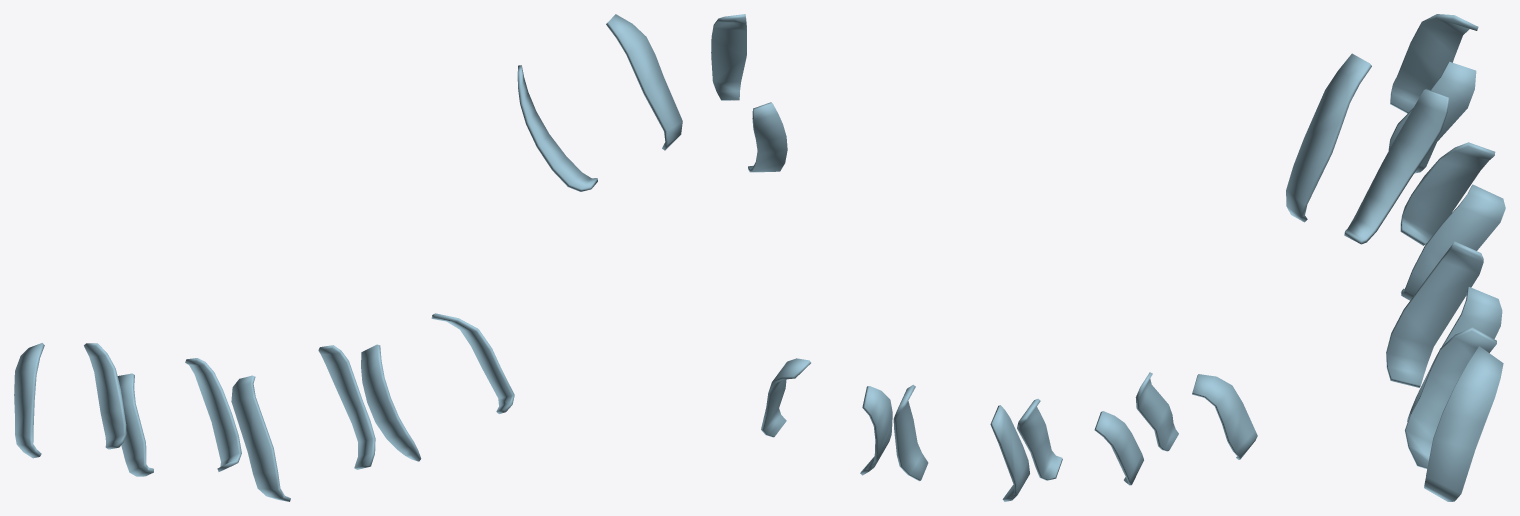
Rendered from articulacoes-collateral-metacarpophalangeal-ligaments-l.glb.
3 renders of one model, left to right at view 1: azimuth 30°, elevation 25°; view 2: azimuth 150°, elevation 25°; view 3: azimuth 270°, elevation 25°, orthographic. The views are drawn at different scales.
Visible parts, largest first — view 1: Collateral metacarpophalangeal ligaments.l; view 2: Collateral metacarpophalangeal ligaments.l; view 3: Collateral metacarpophalangeal ligaments.l.
Part boxes in pixels (<box>): Collateral metacarpophalangeal ligaments.l: <box>14,14,682,501</box>; Collateral metacarpophalangeal ligaments.l: <box>711,14,1257,501</box>; Collateral metacarpophalangeal ligaments.l: <box>1286,14,1505,501</box>.
Bounding box in the file's own units: 0.0934 × 0.0616 × 0.0238.
